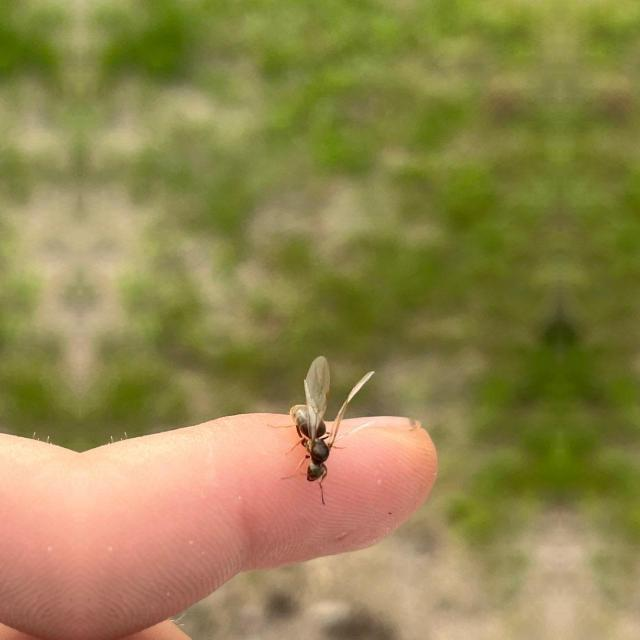Lasius: (269, 374, 357, 494)
